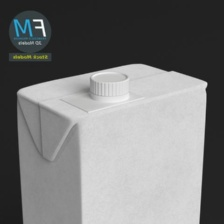carton: (13, 60, 210, 223)
